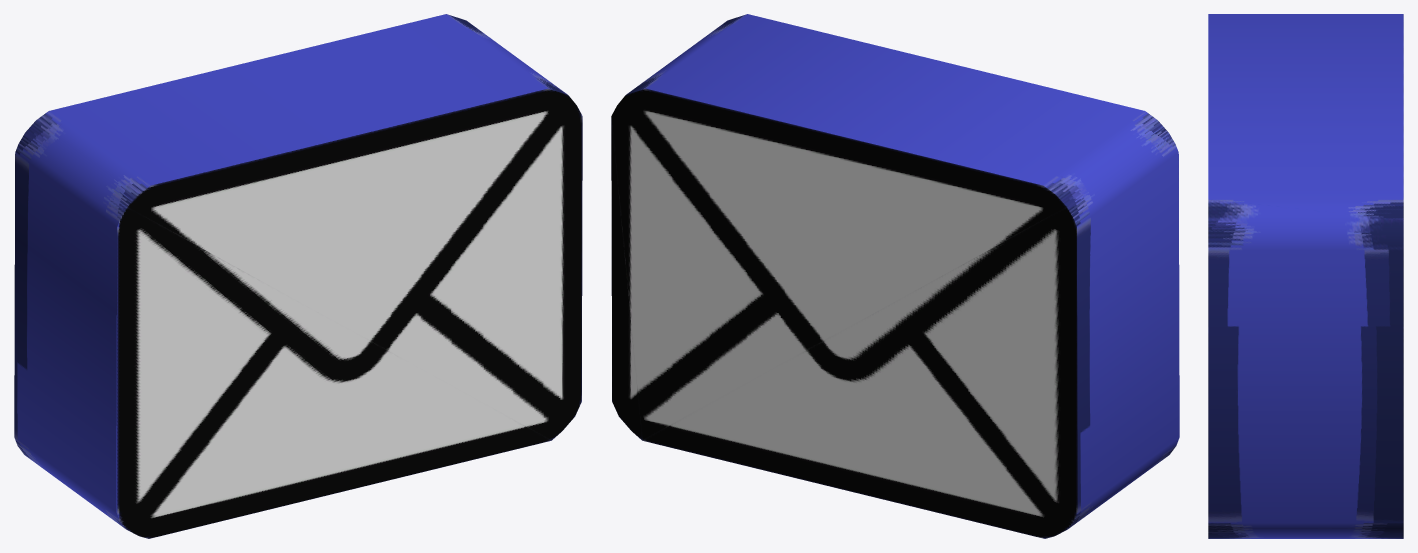
Rendered from mail.fbx.
3 views of the same model, side by side, from view 1: azimuth 30°, elevation 25°; view 2: azimuth 150°, elevation 25°; view 3: azimuth 270°, elevation 25° (orthographic). The views are drawn at different scales.
Parts seen in each view (by area): view 1: root; view 2: root; view 3: root.
Part boxes in pixels (left/top/right/bottom): root: left=14, top=14, right=582, bottom=538; root: left=611, top=14, right=1179, bottom=538; root: left=1208, top=14, right=1403, bottom=538.
Size of the model in its own units: 0.2642 by 0.191 by 0.1.
1 material, 1 textured.
